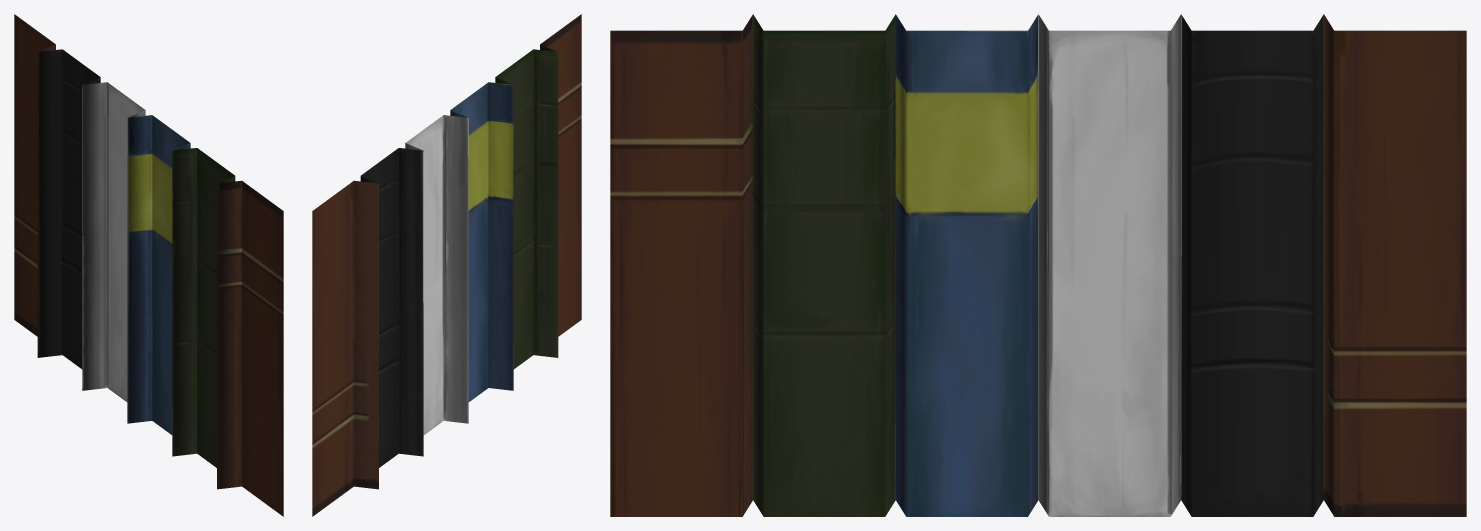
Rendered from Office_Book3.fbx.
3 views of the same model, side by side, from view 1: azimuth 30°, elevation 25°; view 2: azimuth 150°, elevation 25°; view 3: azimuth 270°, elevation 25° (orthographic). The views are drawn at different scales.
Visible parts, largest first — view 1: Box193; view 2: Box193; view 3: Box193.
Boxes of the visible parts, box(x1,y1,x2,y2) form: Box193: box(14, 14, 283, 516); Box193: box(312, 14, 581, 516); Box193: box(610, 14, 1466, 516).
Bounding box in the file's own units: 1.16 × 15.61 × 24.91.
